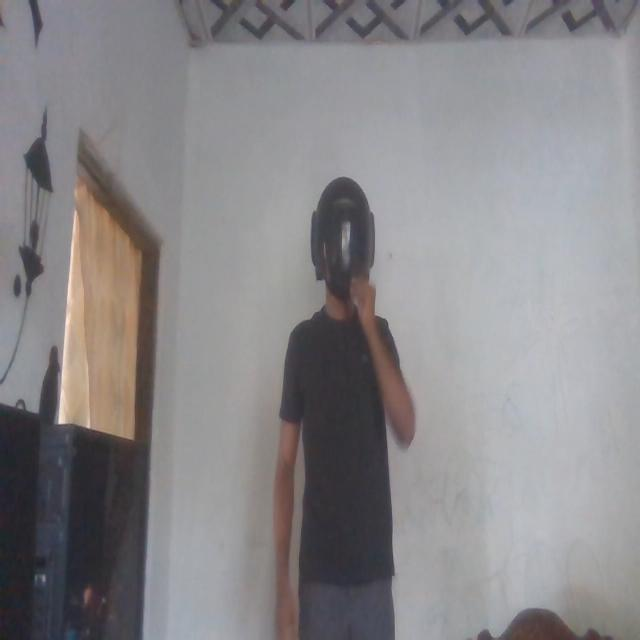Helmet_Wearer: (301, 164, 377, 322)
Person: (279, 163, 413, 640)
